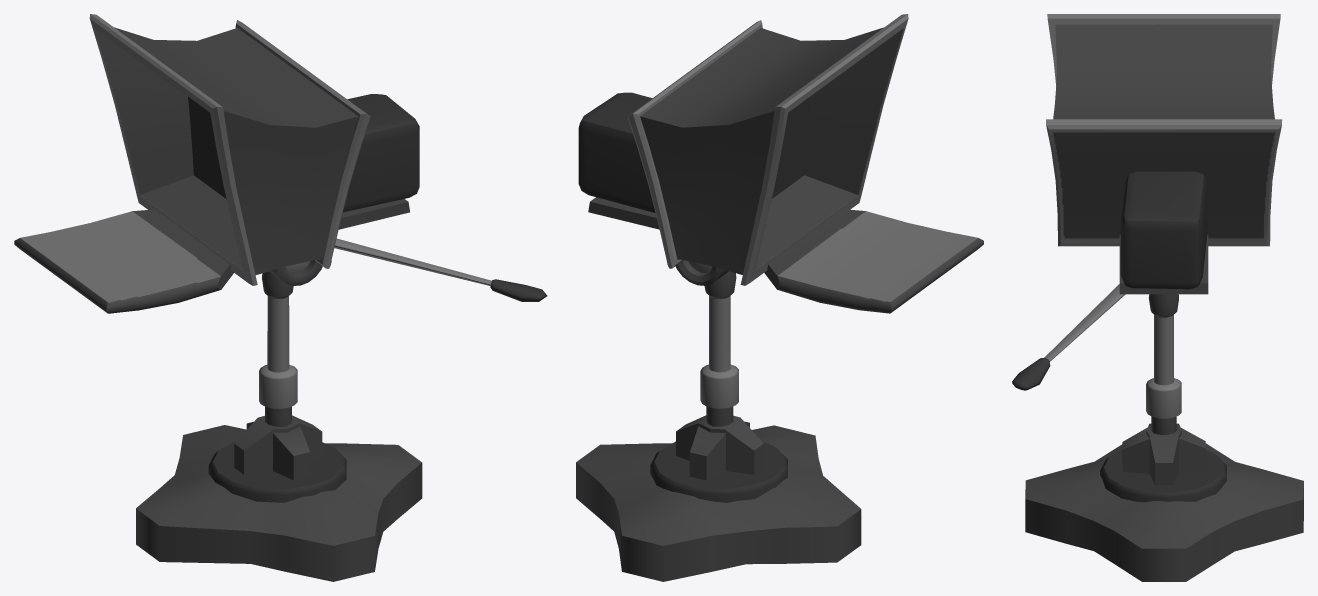
Rendered from TeleprompterBigger.fbx.
3 renders of one model, left to right at view 1: azimuth 30°, elevation 25°; view 2: azimuth 150°, elevation 25°; view 3: azimuth 270°, elevation 25°, orthographic. The views are drawn at different scales.
Parts seen in each view (by area): view 1: TP; view 2: TP; view 3: TP.
Part boxes in pixels (<box>): TP: <box>14,14,547,581</box>; TP: <box>576,14,983,581</box>; TP: <box>1012,14,1303,581</box>.
Bounding box in the file's own units: 0.2517 × 0.2992 × 0.1696.
Materials: 1 (1 with a texture image).
